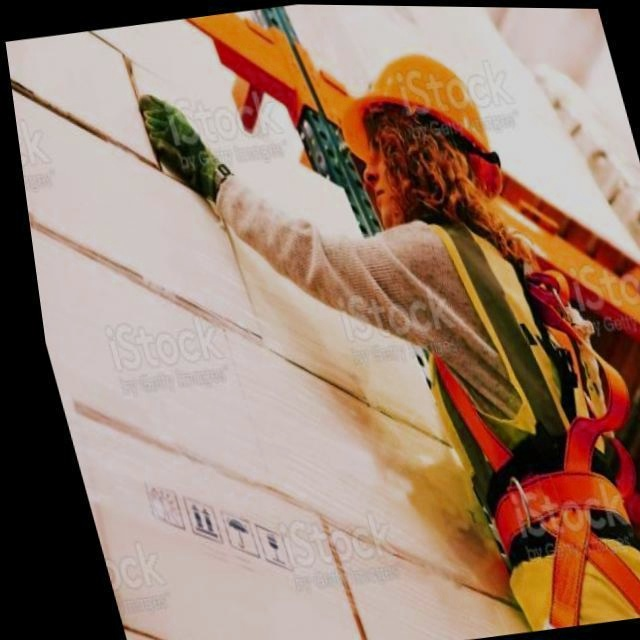safety belt: (366, 219, 639, 615)
